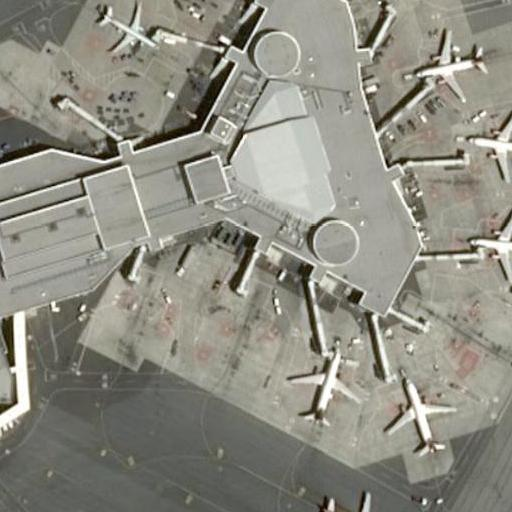Aircraft: (377, 372, 450, 453), (415, 25, 498, 94), (284, 342, 356, 421), (463, 103, 512, 184), (308, 487, 396, 512), (375, 0, 460, 5)
